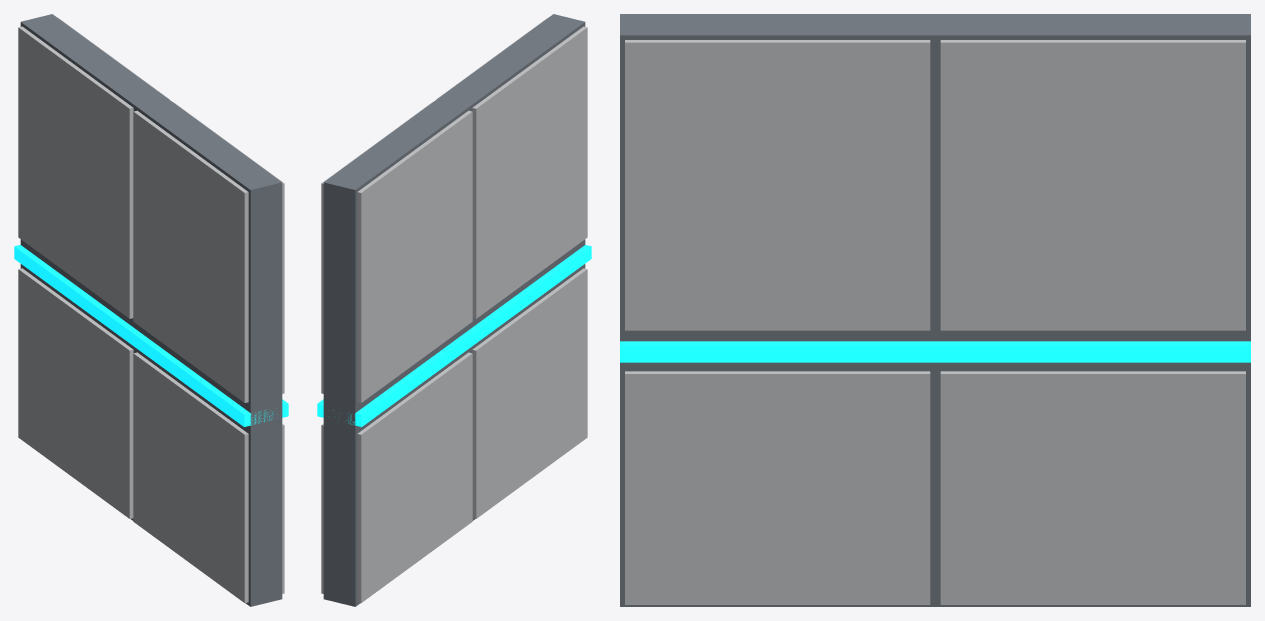
File: future-wall.glb
The picture shows the model from 3 angles, left to right: view 1: azimuth 30°, elevation 25°; view 2: azimuth 150°, elevation 25°; view 3: azimuth 270°, elevation 25°; orthographic projection. The views are drawn at different scales.
Visible parts, largest first — view 1: future-wall; view 2: future-wall; view 3: future-wall.
Boxes of the visible parts, x1=… form: future-wall: x1=14, y1=14, x2=288, y2=606; future-wall: x1=317, y1=14, x2=591, y2=606; future-wall: x1=620, y1=14, x2=1250, y2=606.
Bounding box in the file's own units: 0.112 × 1 × 1.
